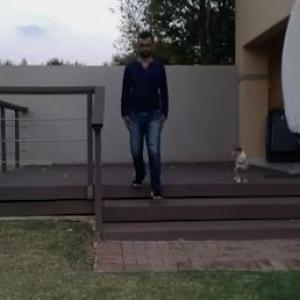follow: (120, 31, 163, 204)
